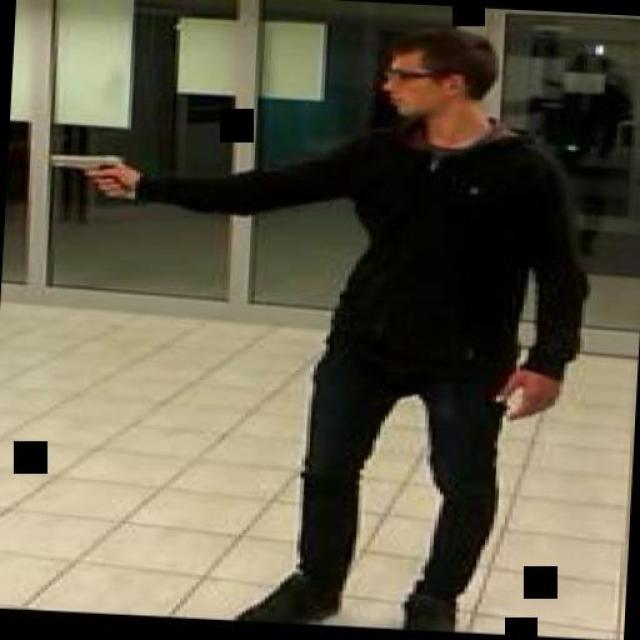gun: (36, 144, 142, 198)
